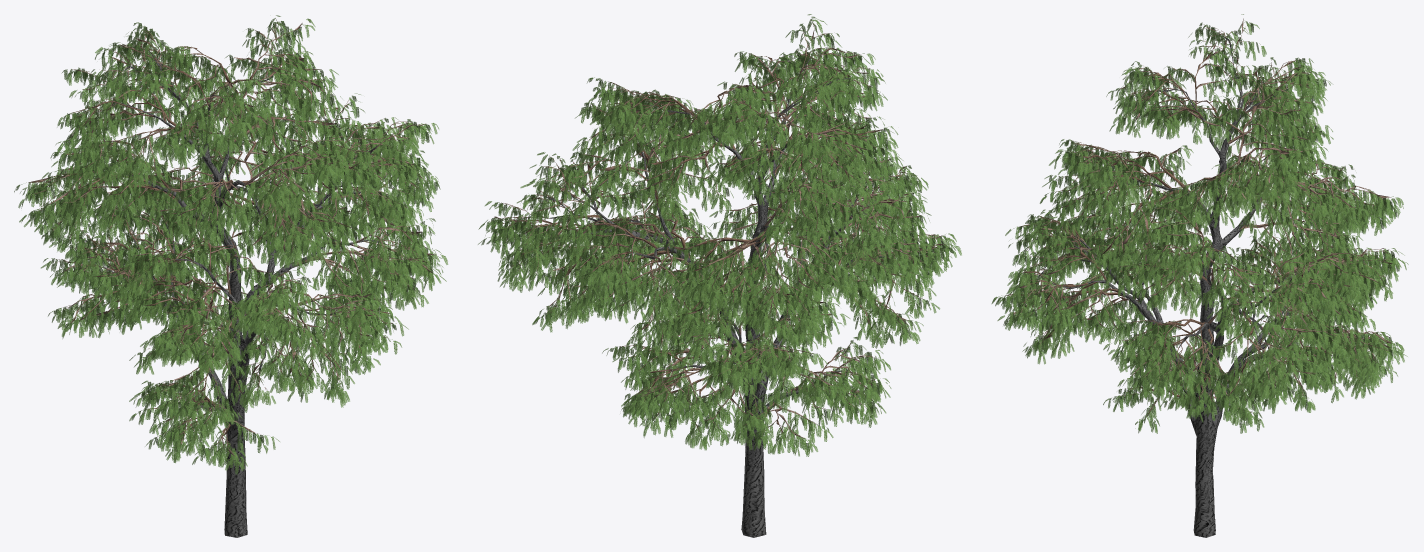
The model's file is tree.glb.
The picture shows the model from 3 angles, left to right: view 1: azimuth 30°, elevation 25°; view 2: azimuth 150°, elevation 25°; view 3: azimuth 270°, elevation 25°; orthographic projection. The views are drawn at different scales.
Visible parts, largest first — view 1: Gleditsia_triacanthos_v02_m01; view 2: Gleditsia_triacanthos_v02_m01; view 3: Gleditsia_triacanthos_v02_m01.
Boxes of the visible parts, left/top/right/bottom form: Gleditsia_triacanthos_v02_m01: left=14, top=15, right=448, bottom=537; Gleditsia_triacanthos_v02_m01: left=478, top=14, right=961, bottom=537; Gleditsia_triacanthos_v02_m01: left=991, top=14, right=1408, bottom=537.
Size of the model in its own units: 80.12 by 97.95 by 79.5.
Materials: 3 (3 with a texture image).
